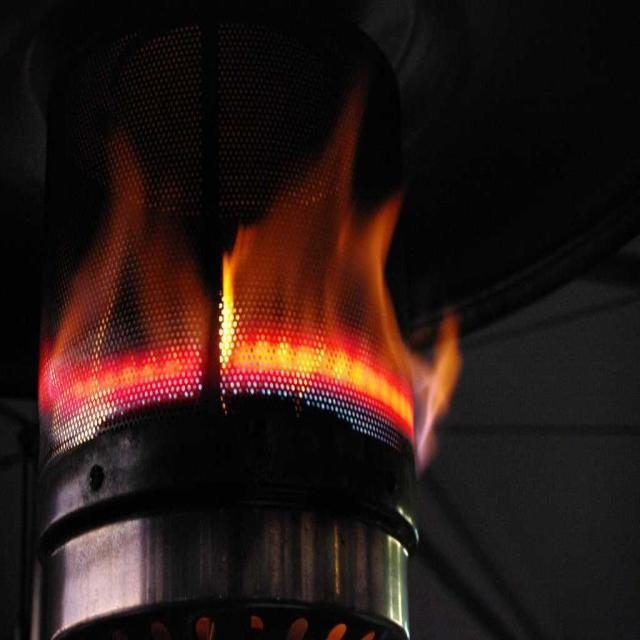Fire: (236, 336, 384, 388), (51, 345, 194, 392)
